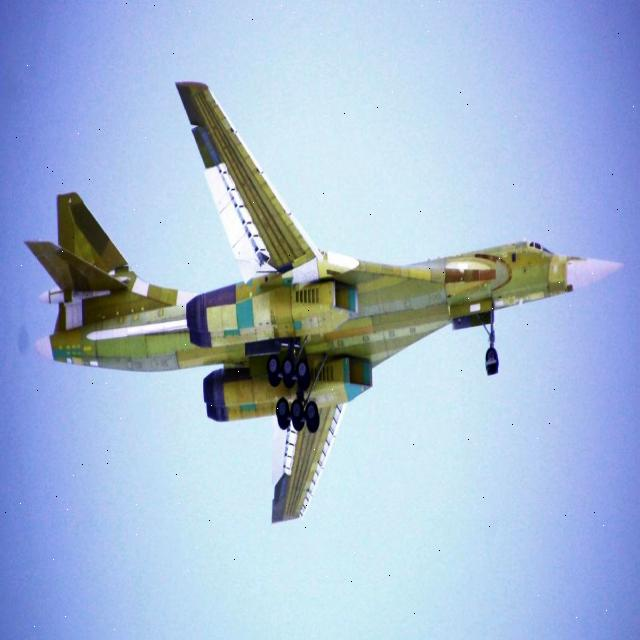MQ9: (10, 57, 630, 590)
